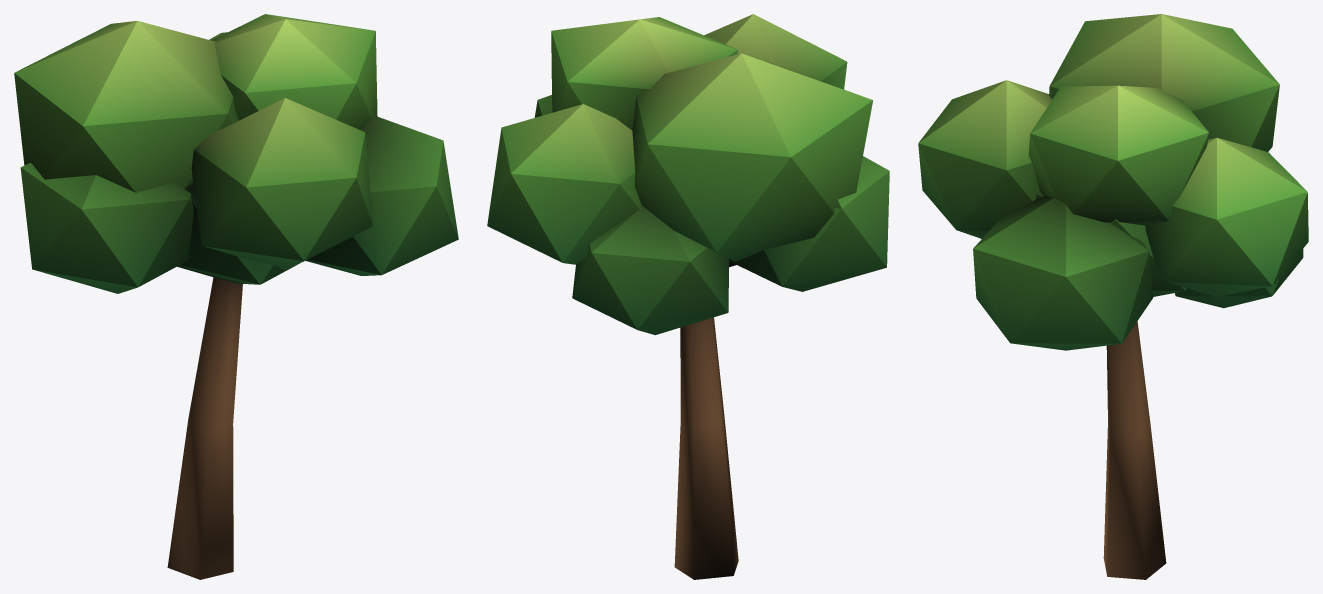
File: tree-standing-a-far.glb
3 renders of one model, left to right at view 1: azimuth 30°, elevation 25°; view 2: azimuth 150°, elevation 25°; view 3: azimuth 270°, elevation 25°, orthographic. The views are drawn at different scales.
Visible parts, largest first — view 1: 1_leaves.001, 0_trunk.001; view 2: 1_leaves.001, 0_trunk.001; view 3: 1_leaves.001, 0_trunk.001.
Boxes of the visible parts, x1,y1,x2,y2 form: 1_leaves.001: [14, 14, 458, 293]; 0_trunk.001: [167, 277, 242, 579]; 1_leaves.001: [487, 14, 889, 335]; 0_trunk.001: [674, 317, 738, 579]; 1_leaves.001: [918, 14, 1308, 350]; 0_trunk.001: [1103, 321, 1166, 579].
Size of the model in its own units: 4.57 by 6.24 by 4.16.
